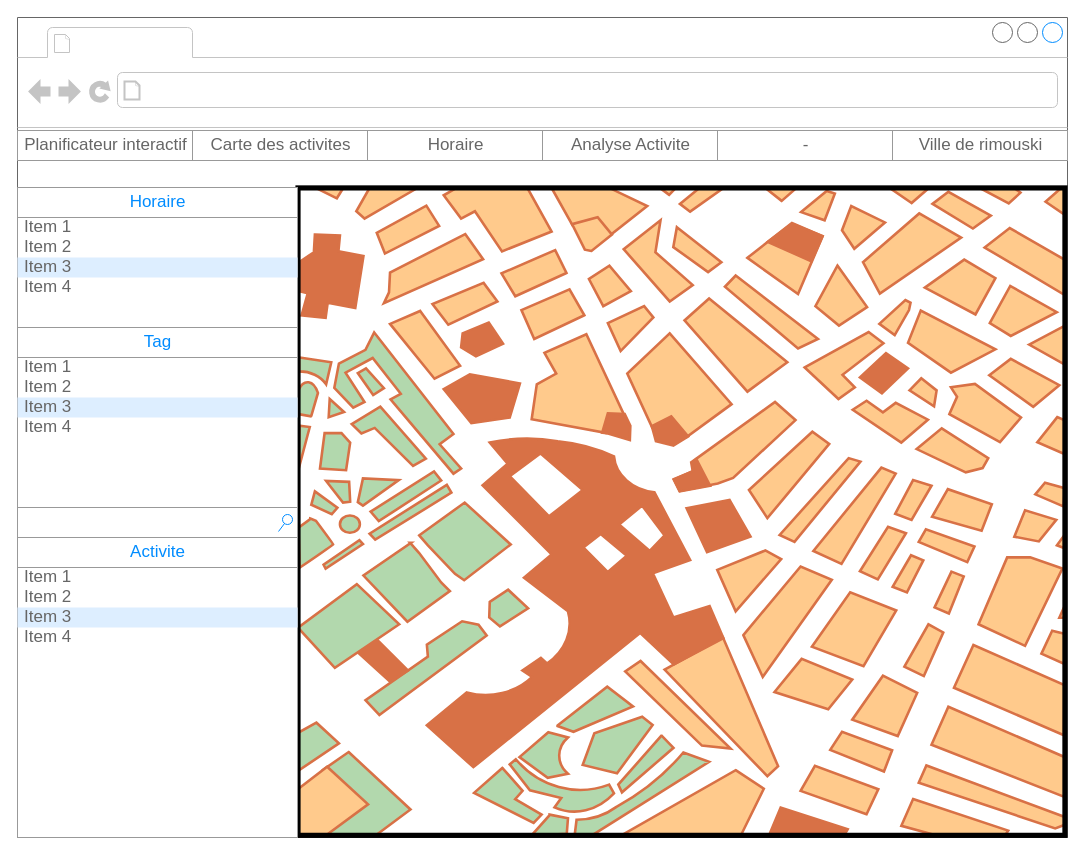
The diagram is 1085 pixels wide and 855 high, and some of its shapes have lost their labels. The centre of each missing label's shape, as x and y in pixels:
https://www.localhost:8080/: [272,90]
Page 1: [132,42]
Search: [157,522]
